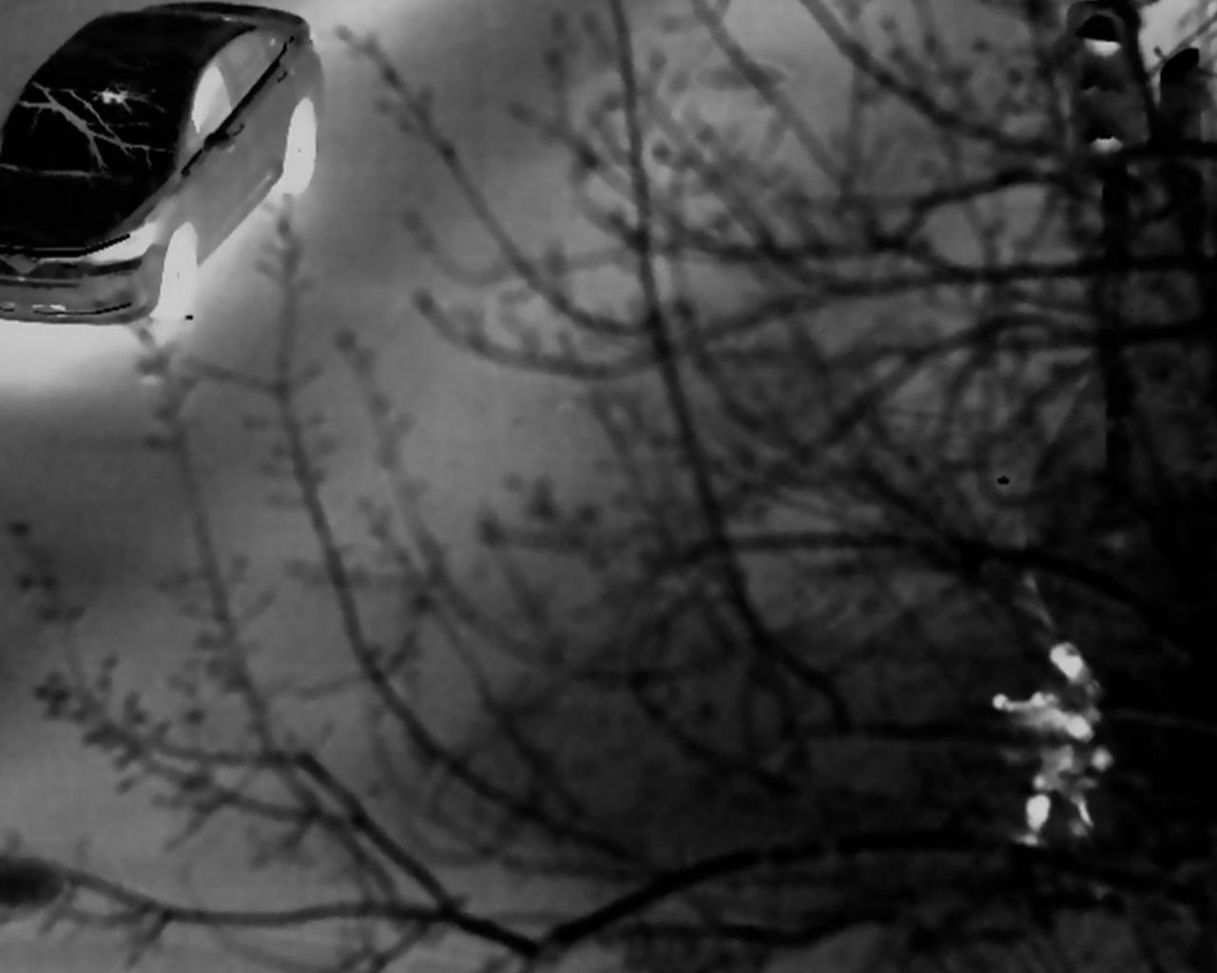person: (1008, 639, 1106, 839)
